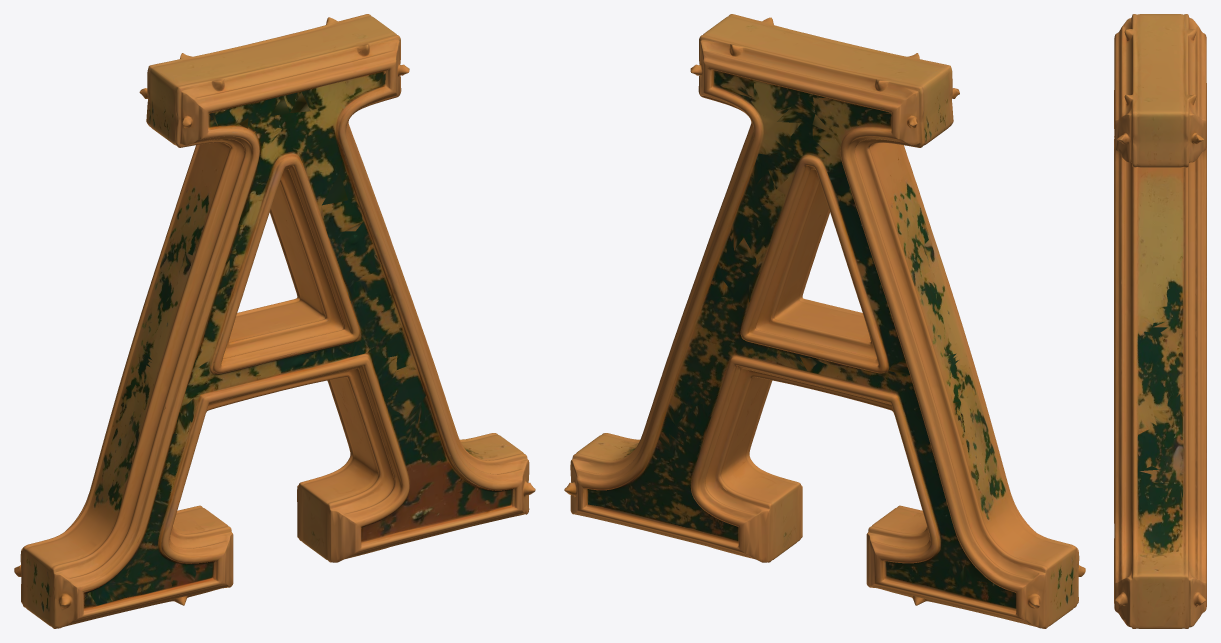
Rendered from noel.glb.
The picture shows the model from 3 angles, left to right: view 1: azimuth 30°, elevation 25°; view 2: azimuth 150°, elevation 25°; view 3: azimuth 270°, elevation 25°; orthographic projection. The views are drawn at different scales.
Visible parts, largest first — view 1: A; view 2: A; view 3: A.
Boxes of the visible parts, x1,y1,x2,y2 form: A: [14, 14, 535, 628]; A: [564, 14, 1085, 628]; A: [1114, 14, 1206, 628].
Bounding box in the file's own units: 3.59 × 3.71 × 0.6716.
Materials: 1 (1 with a texture image).
